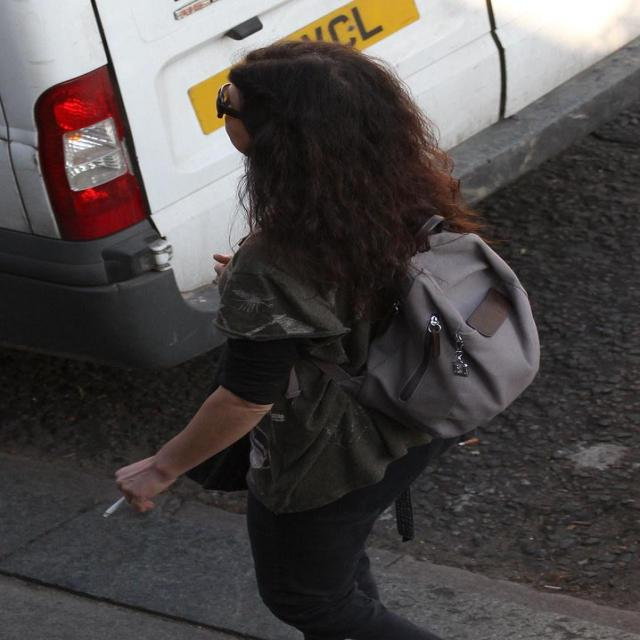Сигарета: (102, 494, 142, 518)
Тело: (114, 41, 538, 526)
